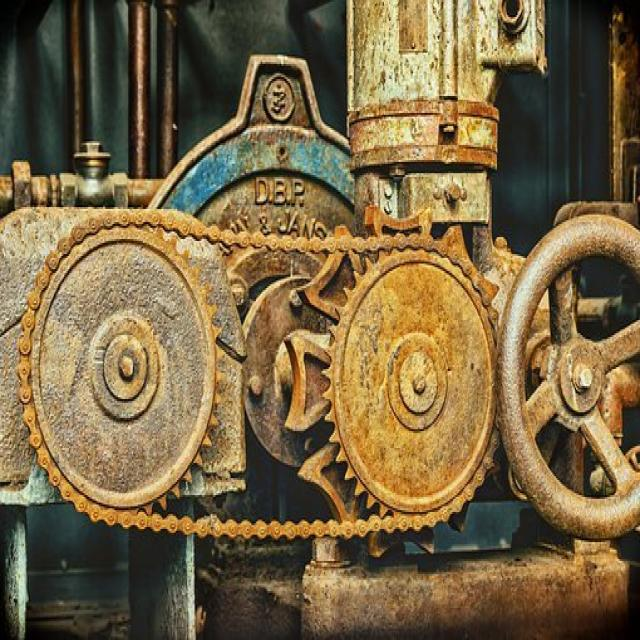corrosion: (0, 0, 640, 640), (346, 0, 547, 102), (159, 124, 353, 214), (0, 489, 58, 640), (126, 543, 195, 640)
